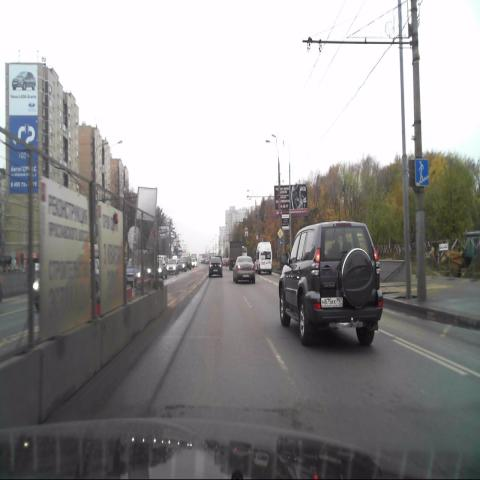6_6: (415, 158, 429, 186)
